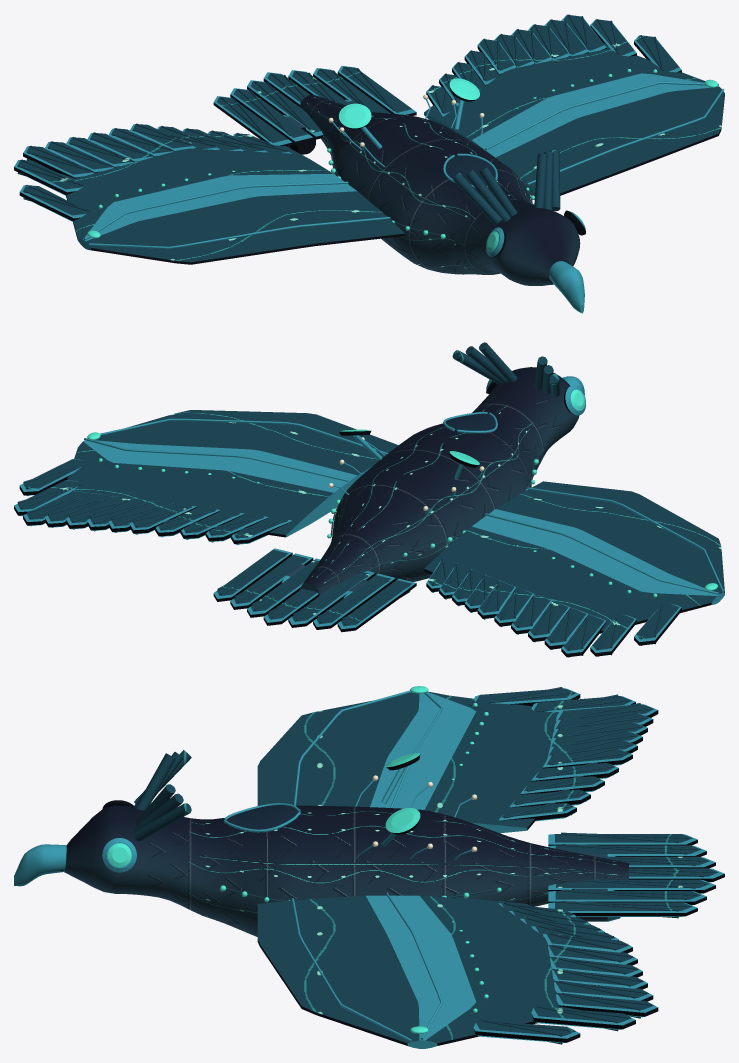
The picture shows the model from 3 angles, top to bottom: view 1: azimuth 30°, elevation 25°; view 2: azimuth 150°, elevation 25°; view 3: azimuth 270°, elevation 25°; orthographic projection. The views are drawn at different scales.
Parts seen in each view (by area): view 1: harpy_eagle_hull; view 2: harpy_eagle_hull; view 3: harpy_eagle_hull.
Part boxes in pixels (box(x1,y1,x2,y2)): harpy_eagle_hull: box(14, 14, 724, 313); harpy_eagle_hull: box(14, 342, 724, 657); harpy_eagle_hull: box(14, 686, 724, 1048).
Bounding box in the file's own units: 82 × 18.14 × 70.37.
1 material, 1 textured.
